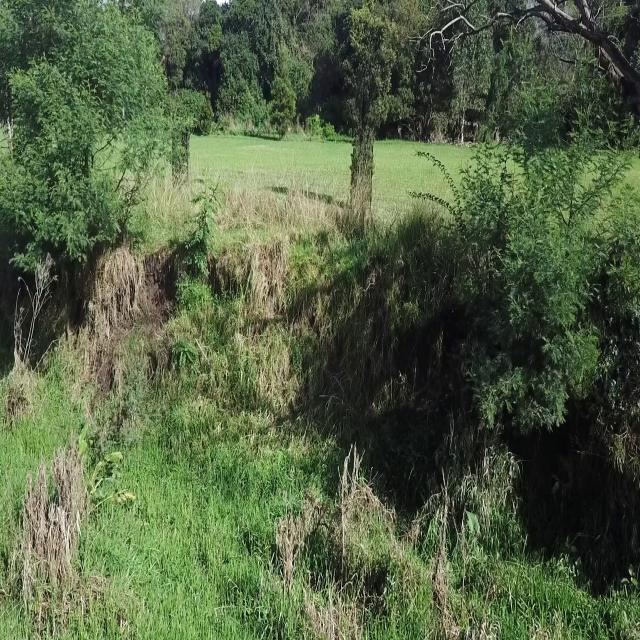Mysore-Thorn-Weed: (167, 173, 222, 316), (168, 335, 200, 375)
